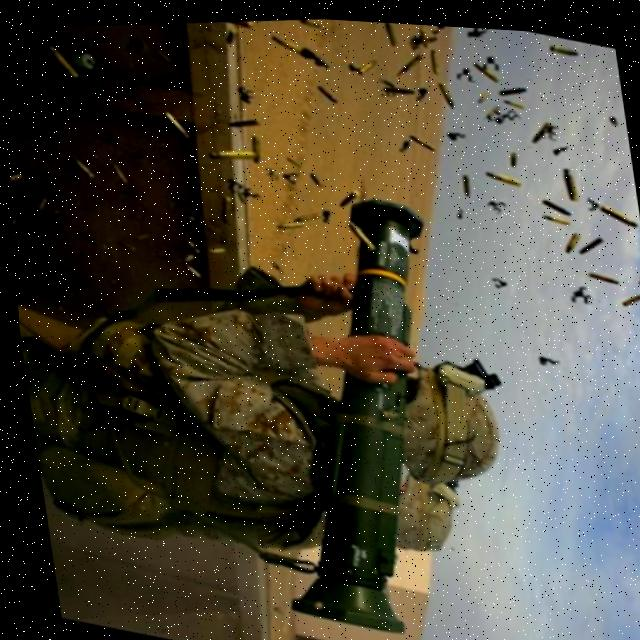rocket: (217, 170, 511, 640)
